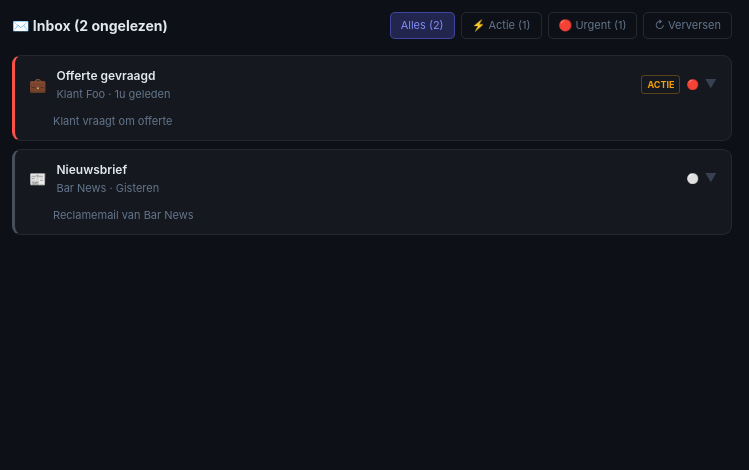
Test: MailTab › expands mail on click and shows AI summary
Click the text "Offerte gevraagd": (106, 75) [56,68,155,82]
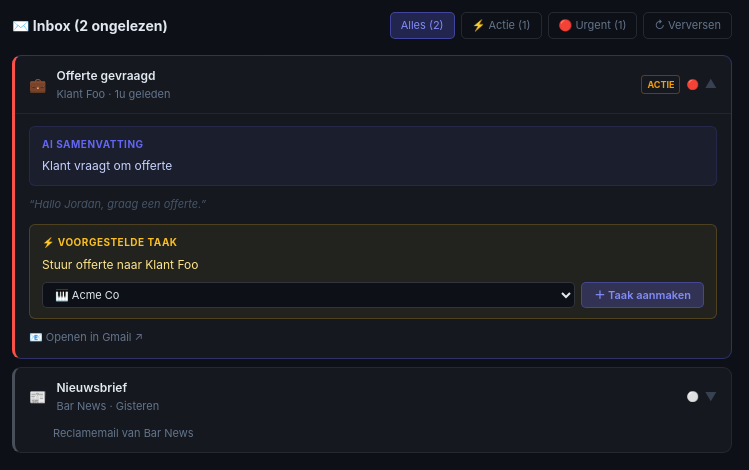
Expected: the text "Klant vraagt om offerte" is shown, [42,158,172,173]
Expected: the text "AI SAMENVATTING" is shown, [42,138,144,150]
